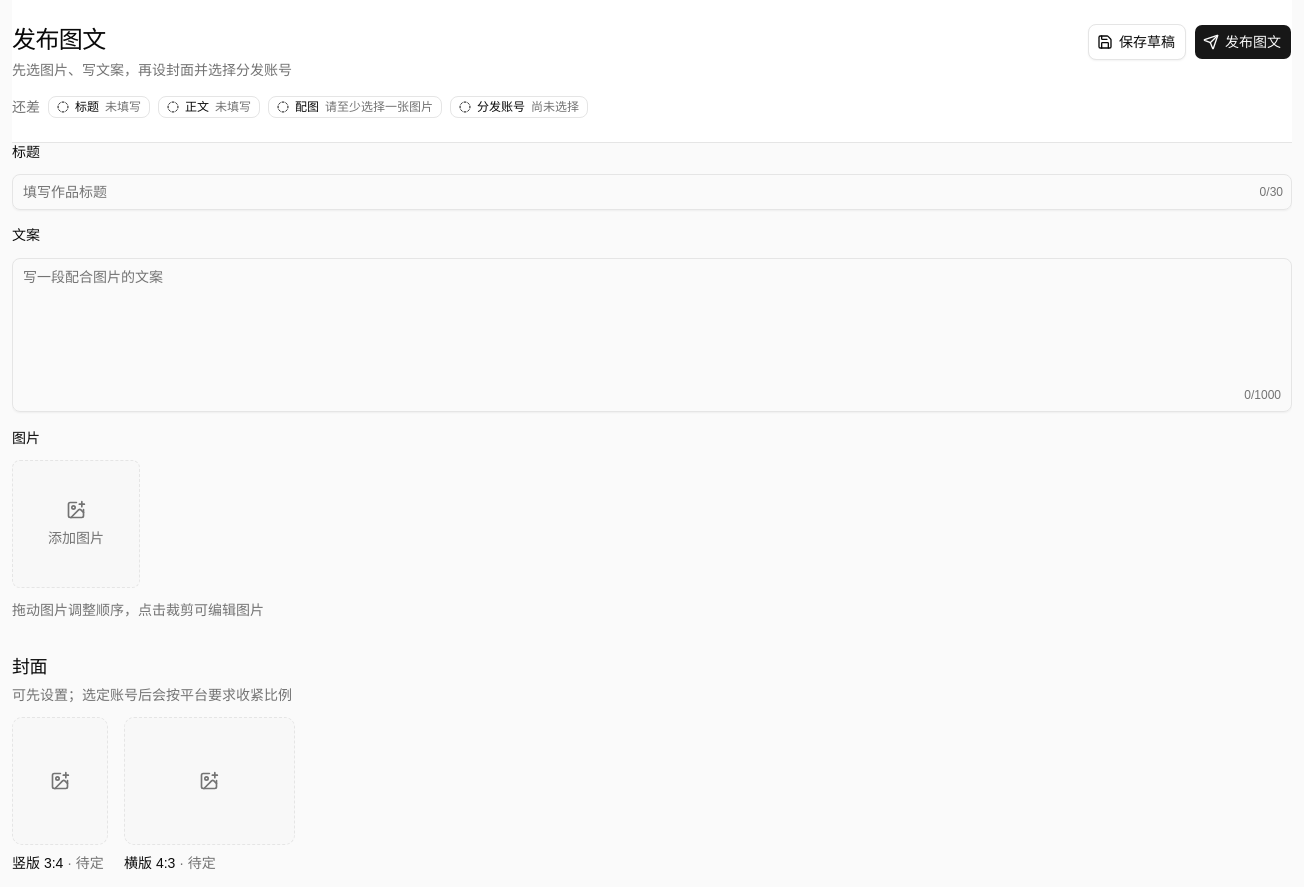
Test case: 点击文案检查项时标红并聚焦，填写后提示消失
The image size is (1304, 887).
Click the button "正文 未填写" at (209, 107), box top-left (158, 96), bottom-right (260, 118)
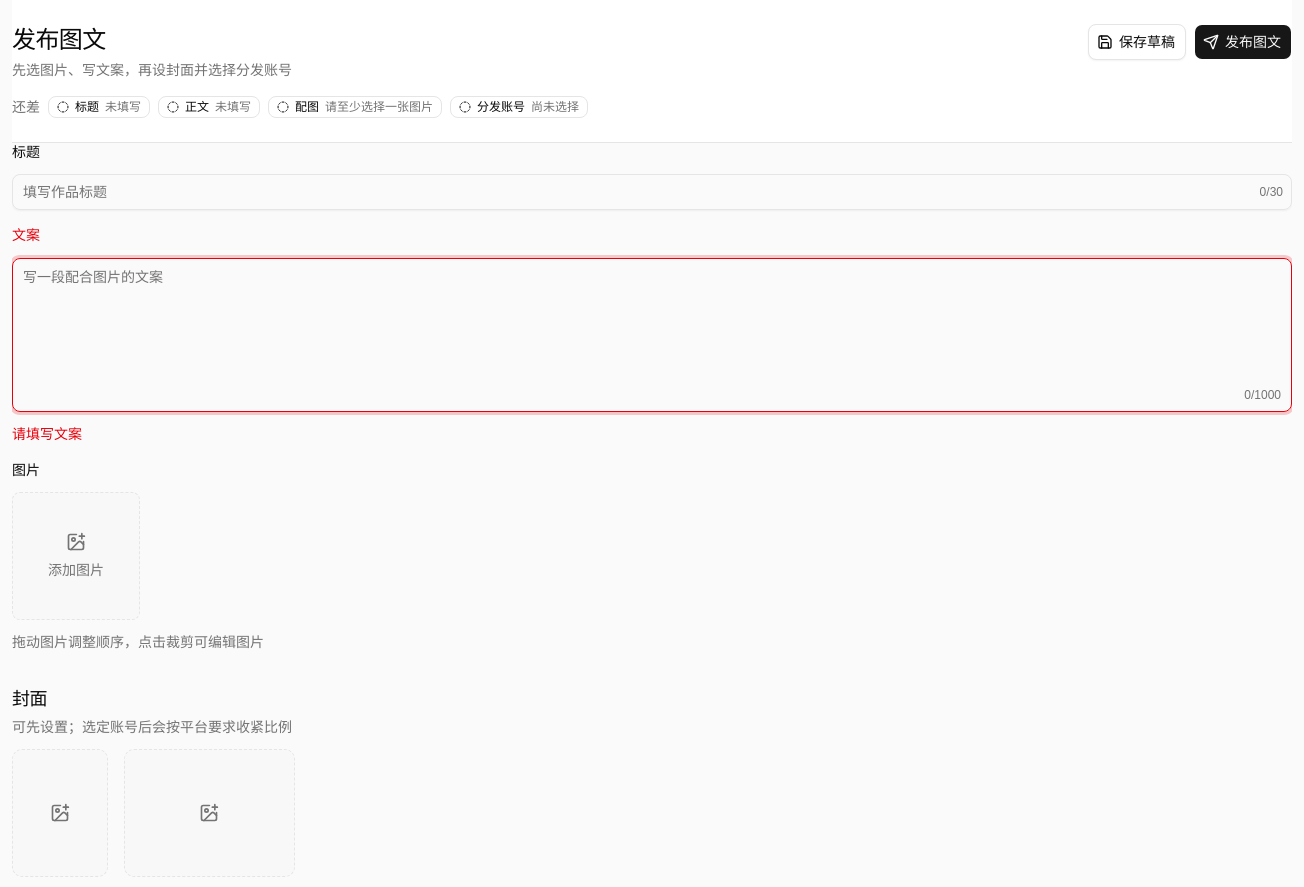
Expected: the text "请填写文案" is shown, top-left (12, 426), bottom-right (82, 442)
Type "文案" into the text box labelled "文案" at (652, 322), box top-left (13, 258), bottom-right (1291, 386)
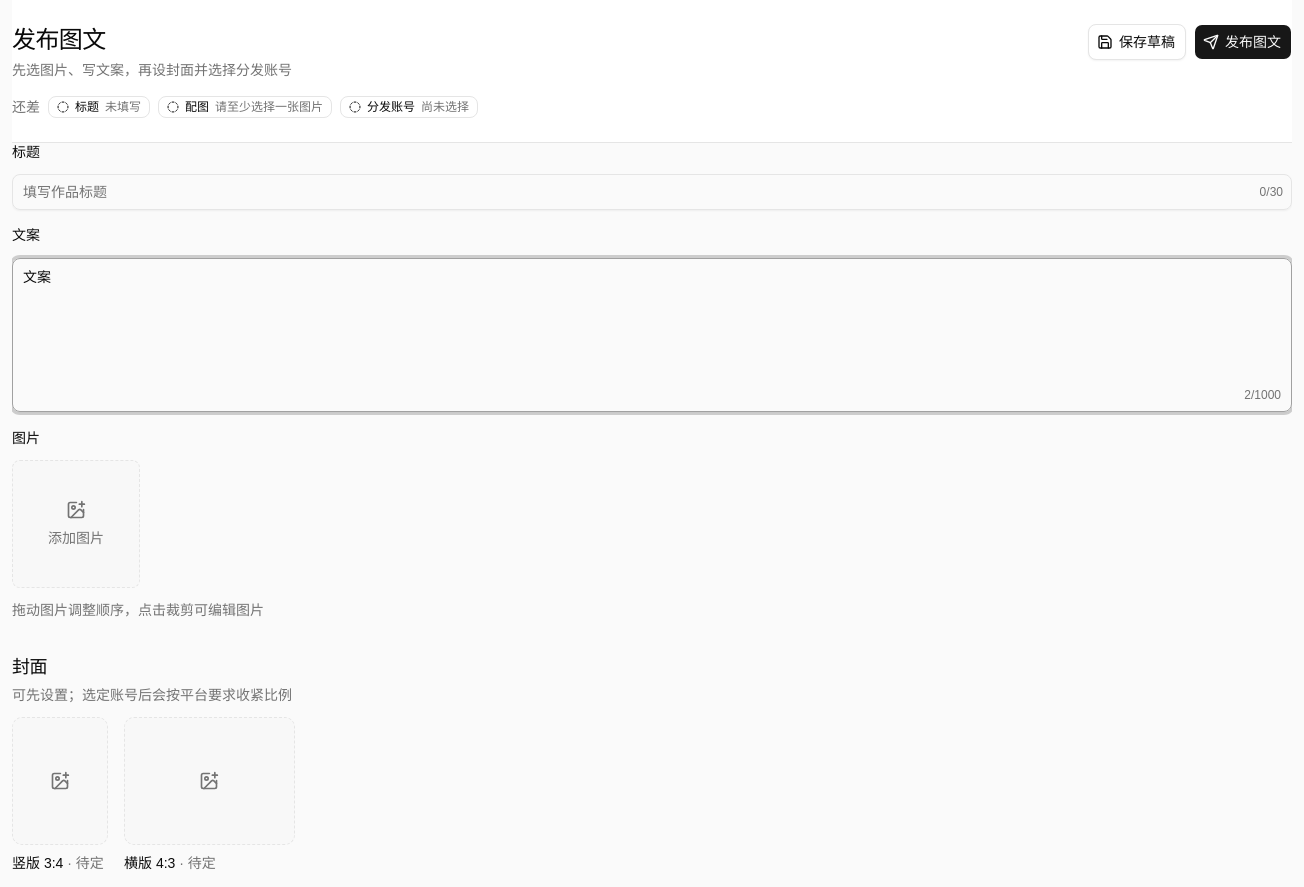
Expected: the text "请填写文案" is gone
